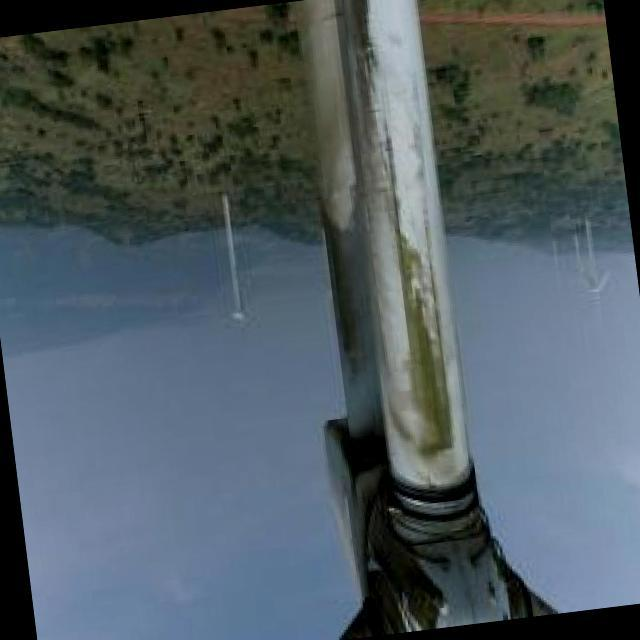Dirt: (296, 0, 467, 505)
